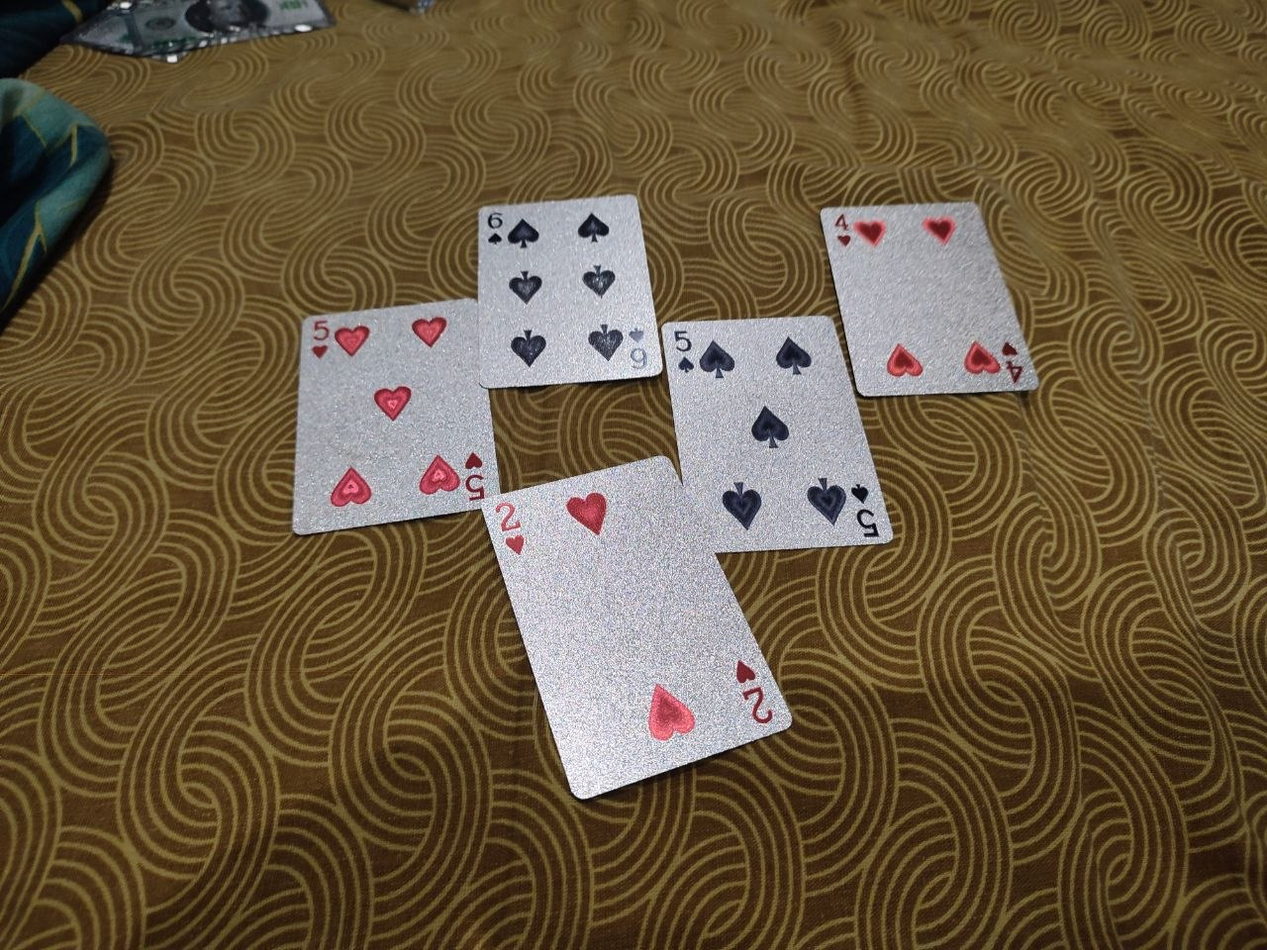2H: (482, 453, 793, 799)
4H: (817, 201, 1041, 396)
5H: (291, 297, 500, 534)
5S: (663, 314, 896, 552)
6S: (474, 191, 662, 387)
